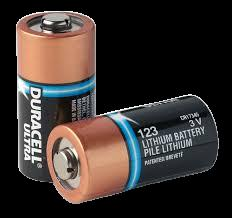Battery: (47, 95, 219, 204), (16, 11, 96, 182)
